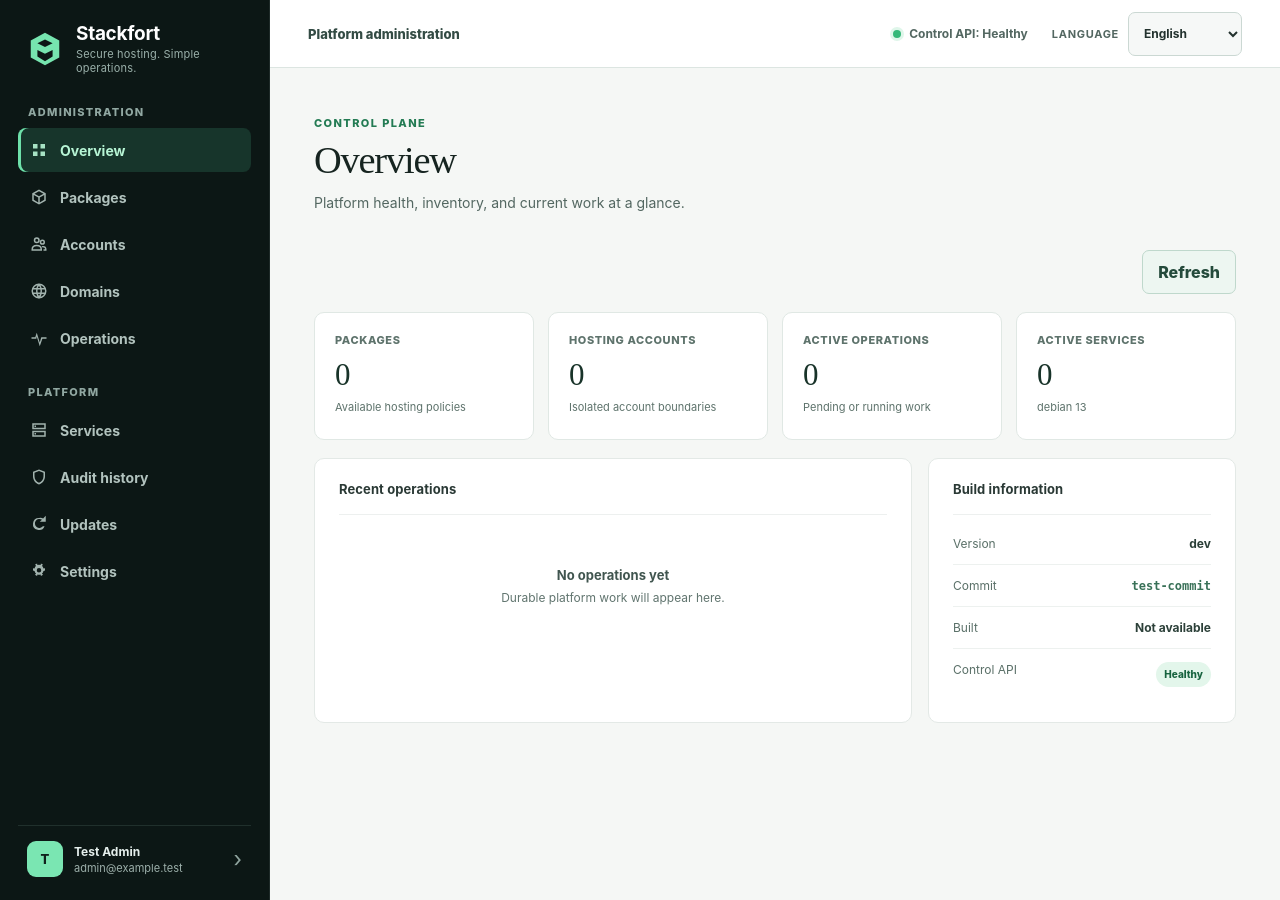
Test case: accessible application shell › moves focus to changed page content and persists the selected language
Click the button with class "nav-item" showing "Domains".
click(134, 291)  # box [18,269,251,313]
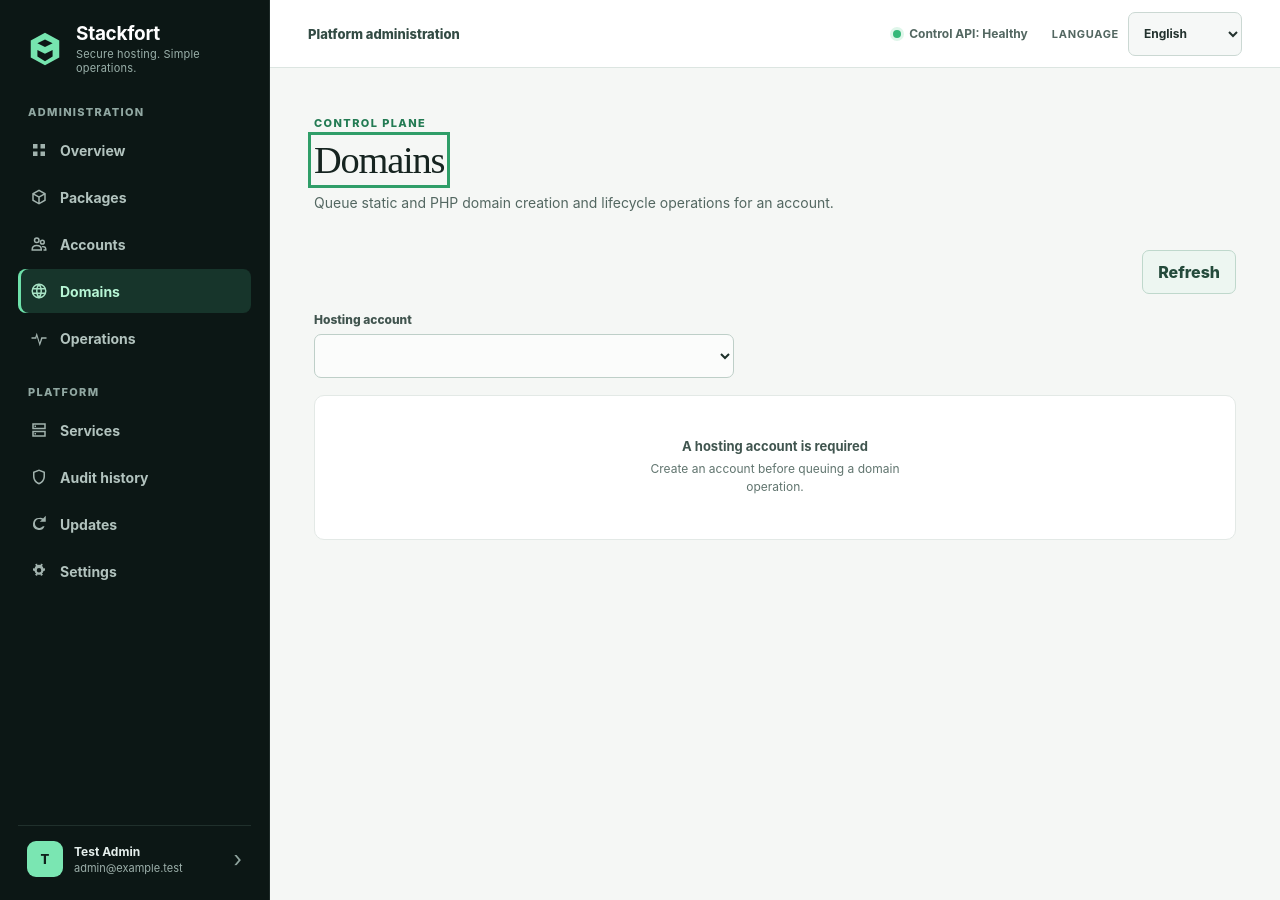
Expected: the heading "Domains" is shown, [314,138,444,182]
Select "Deutsch" in the dropdown with id "language" at [1185, 34], box [1128,12,1242,56]
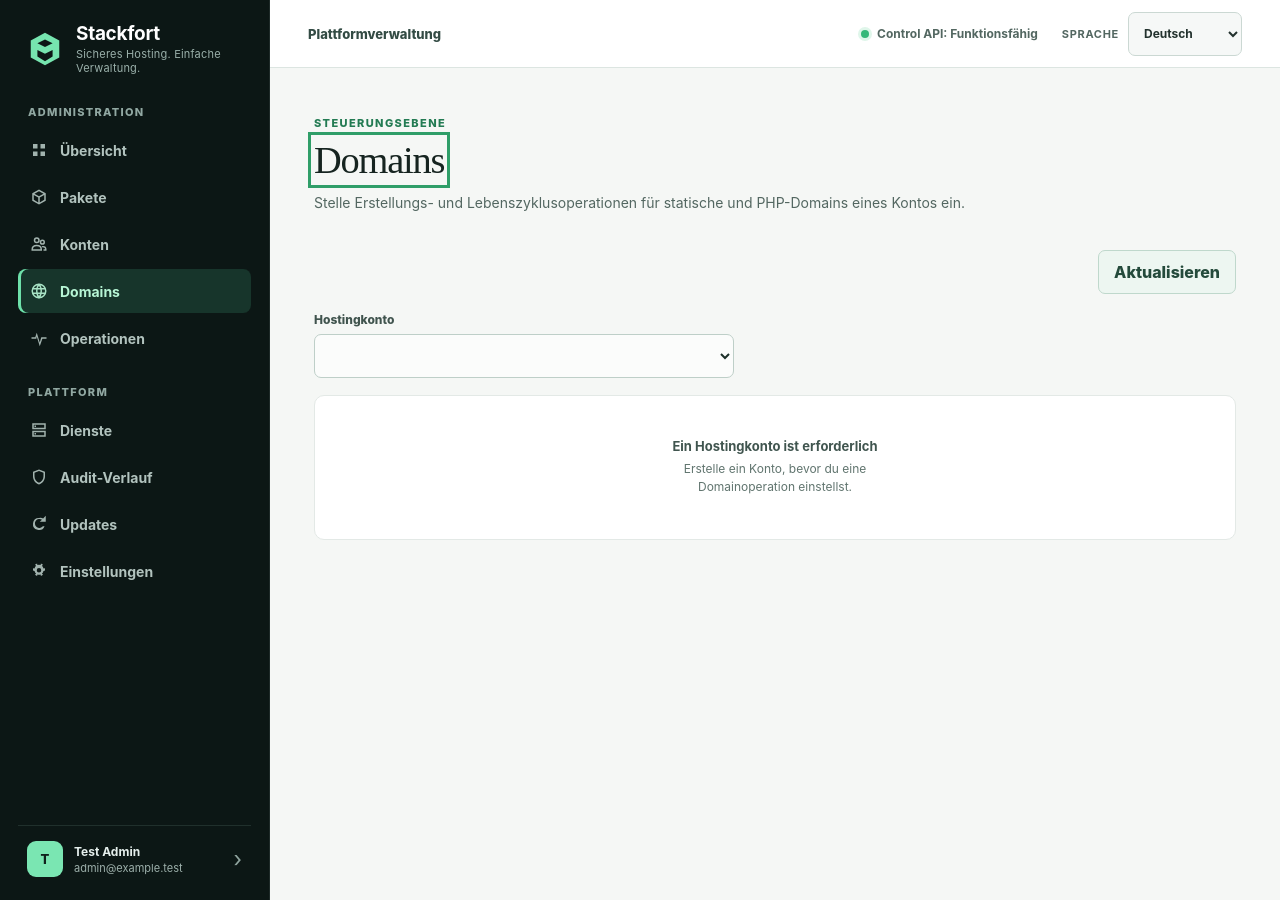
Expected: the heading "Domains" is shown, [314,138,444,182]
Expected: the text with class "context-label" reads "Plattformverwaltung", [308,26,441,42]
